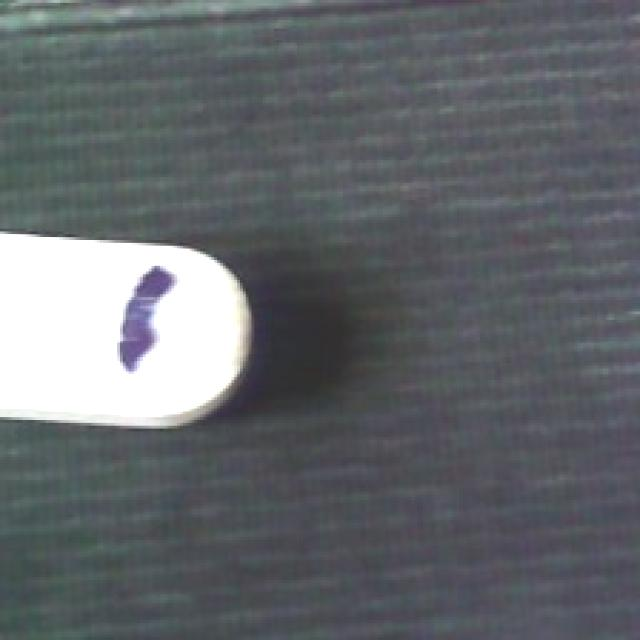defected: (3, 232, 257, 432)
